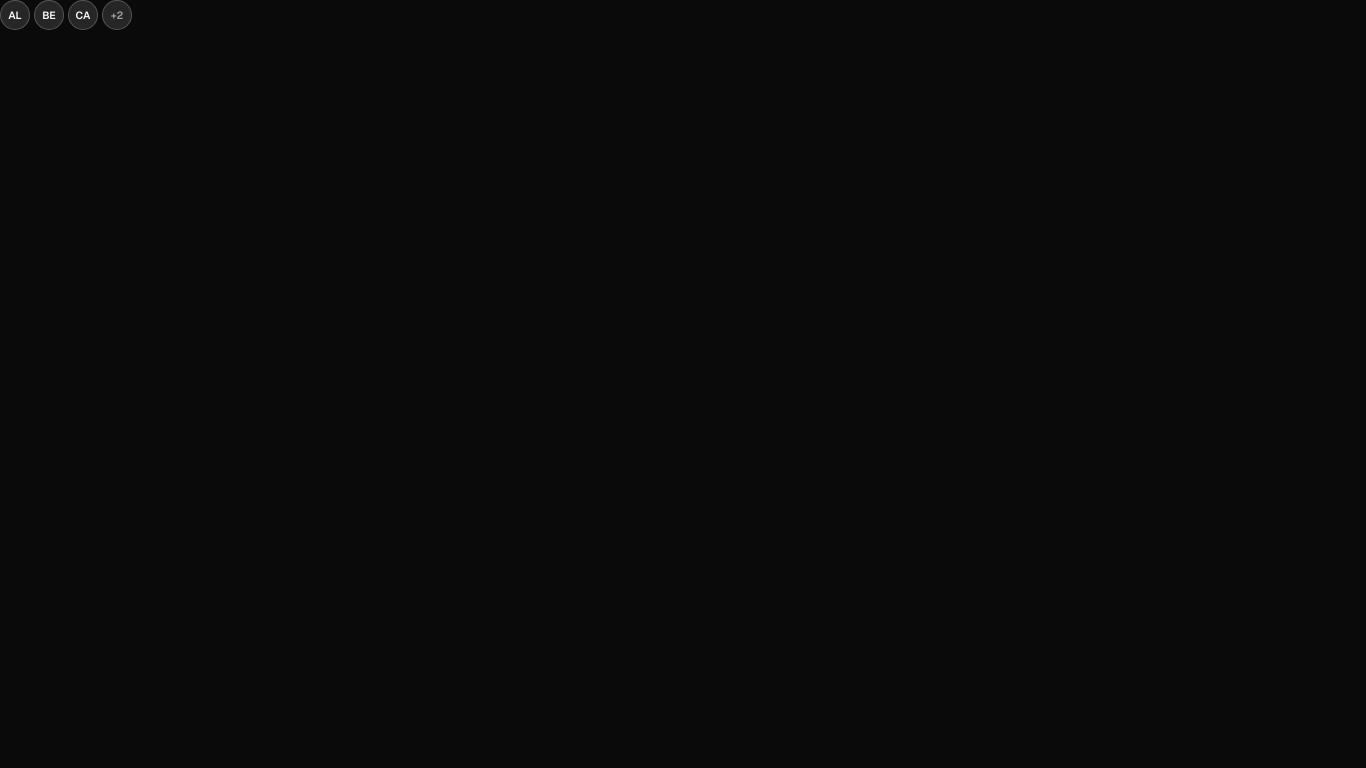
Test: MemberPopover › caps desktop avatars and lists the rest from the overflow control
Check: the button with aria-label "Cara" is shown, box [68,0,98,30]
Check: the button "Dan" is not shown
Step 1. Click the button "+2" → (117, 15), box [102,0,132,30]
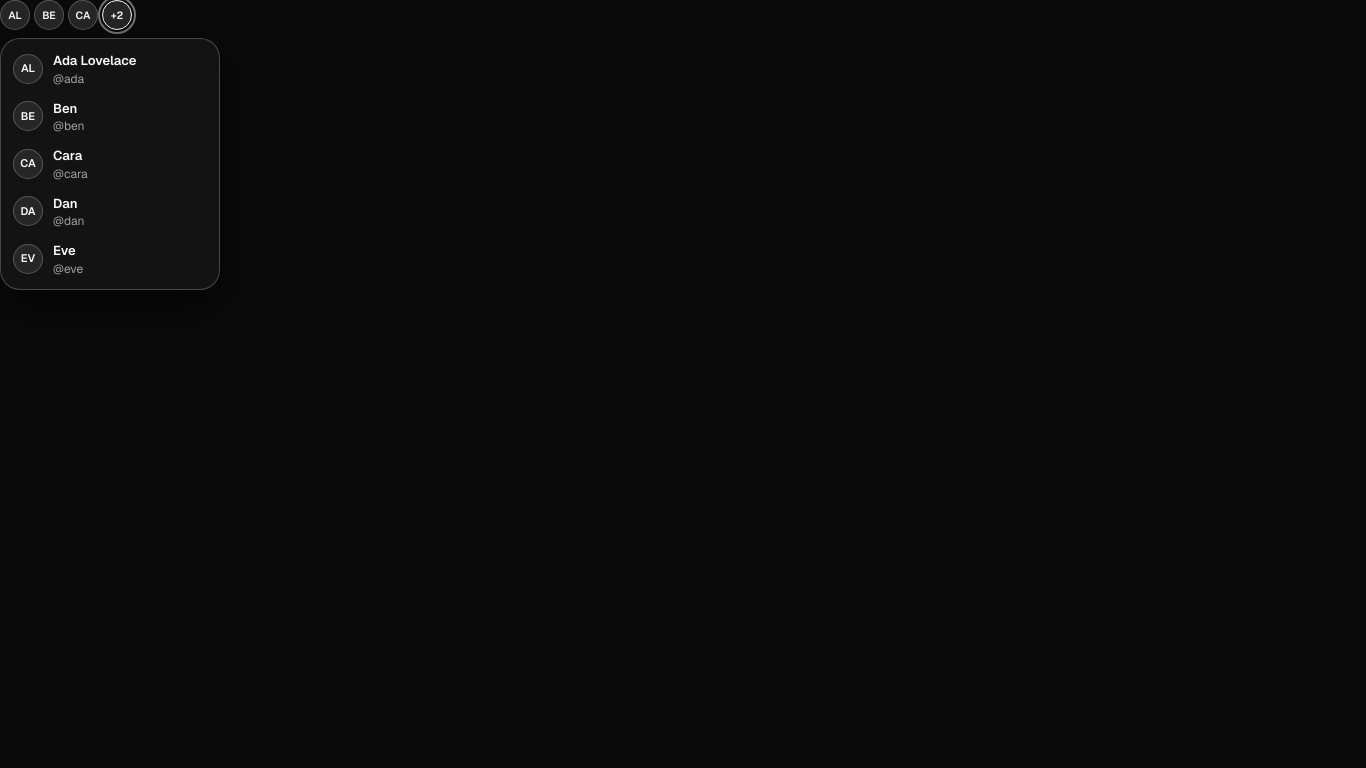
Check: the dialog named "Members" shows "Dan", box [53,194,78,212]
Check: the dialog named "Members" shows "Eve", box [53,242,76,259]
